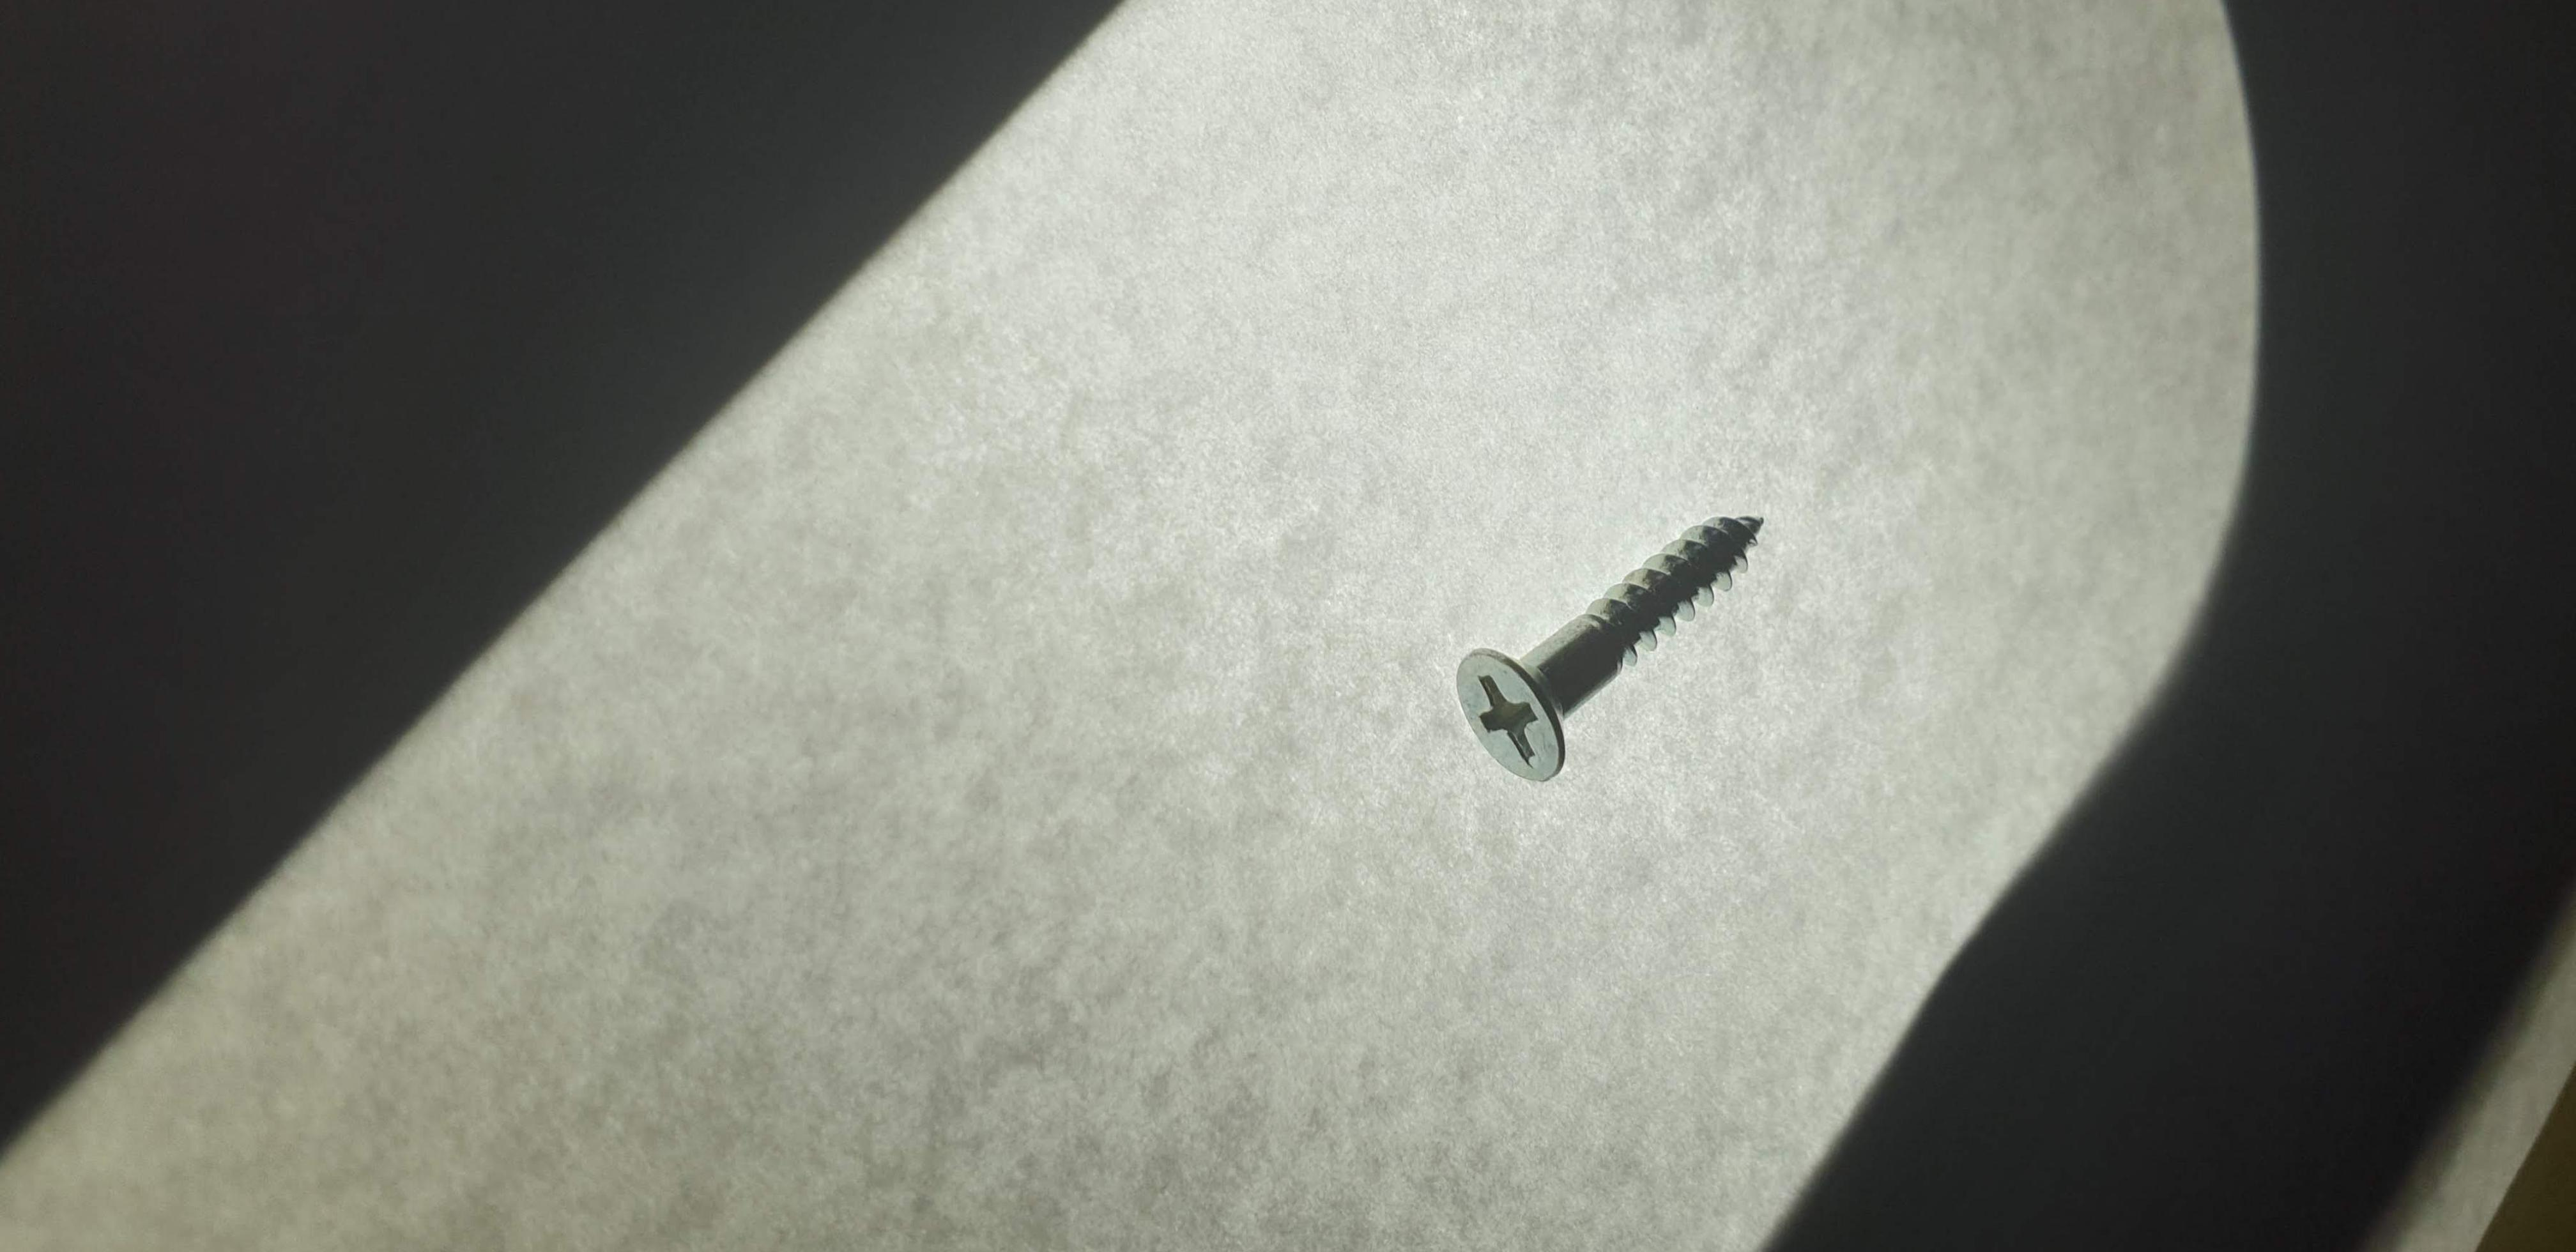S005: (1423, 430, 1837, 822)
